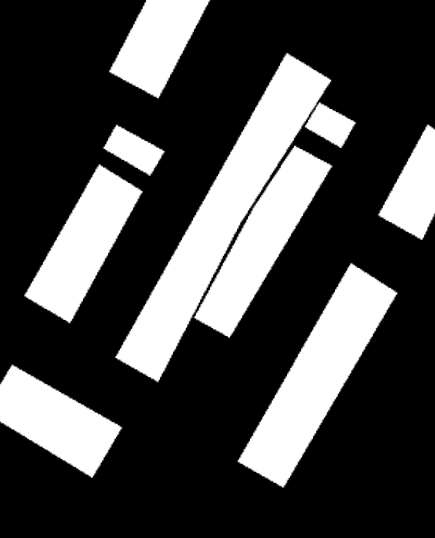parkingspot: (115, 53, 331, 382), (238, 263, 397, 487), (194, 146, 332, 338), (24, 164, 143, 323), (0, 365, 122, 478), (109, 0, 210, 98), (378, 125, 435, 240), (103, 125, 165, 176), (305, 102, 356, 148)
